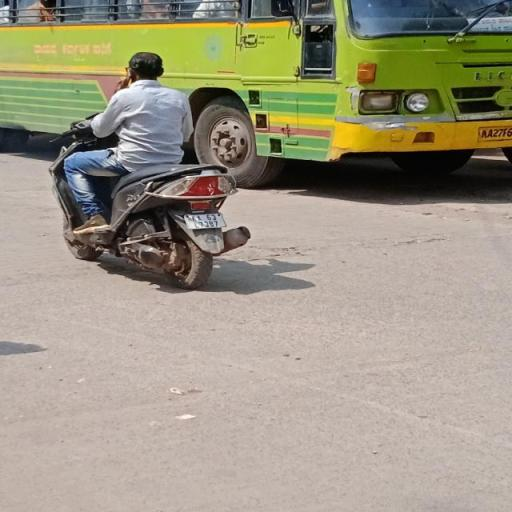bike: (47, 50, 238, 291)
numberplate: (186, 211, 228, 231)
withouthelmet: (128, 52, 167, 80)
